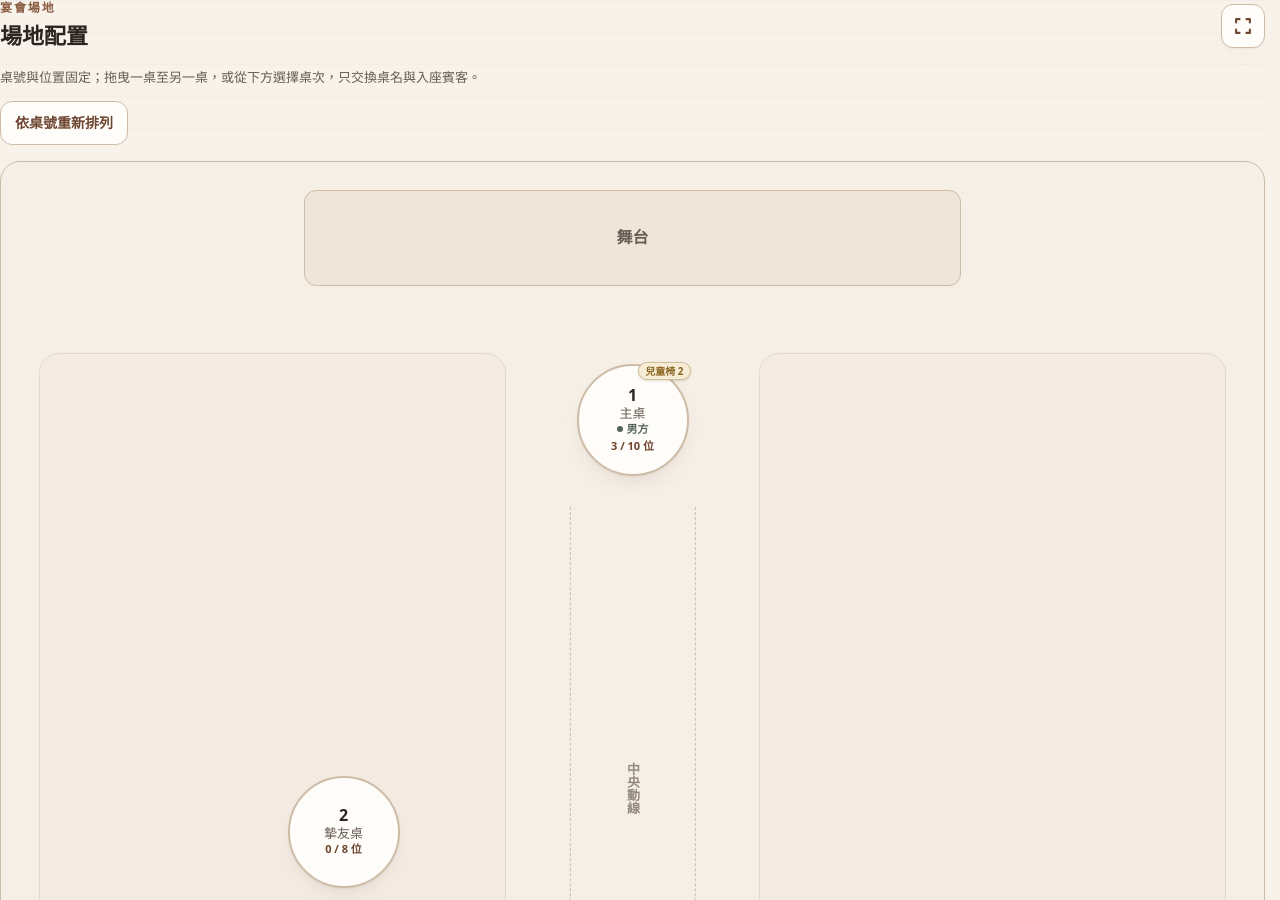
Test case: SeatingFloorPlan › restores every manually placed table to automatic only after an explicit confirm
What coordinates should you click on to do the following:
click the button "依桌號重新排列"
I would click on:
 (64, 123)
Its box is [0, 101, 128, 145].
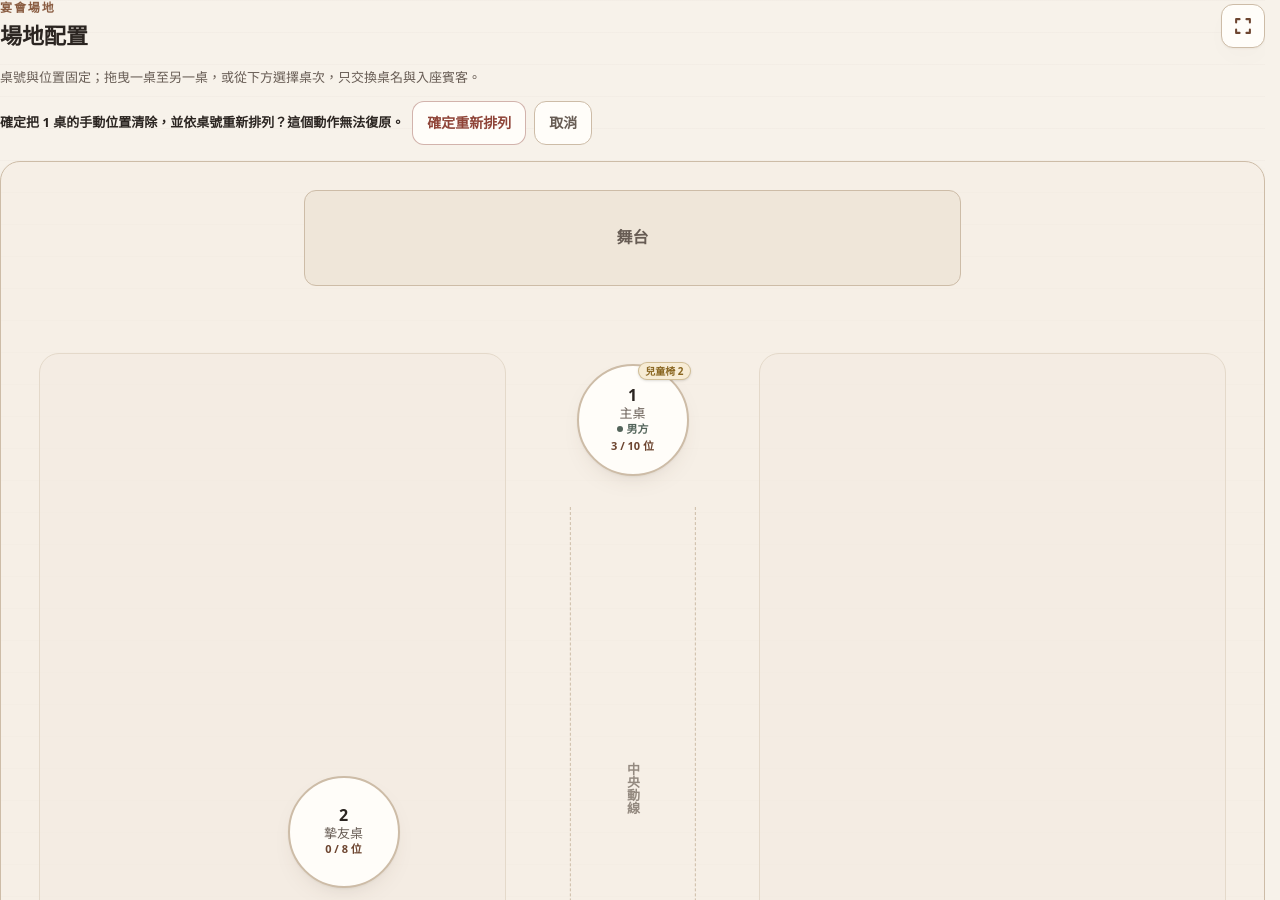
Now the text "確定把 1 桌的手動位置清除，並依桌號重新排列？這個動作無法復原。" is shown, box [0, 112, 404, 133]
What coordinates should you click on to do the following:
click the button "確定重新排列"
I would click on:
 (469, 123)
Its box is [412, 101, 526, 145].
(page scrolled)
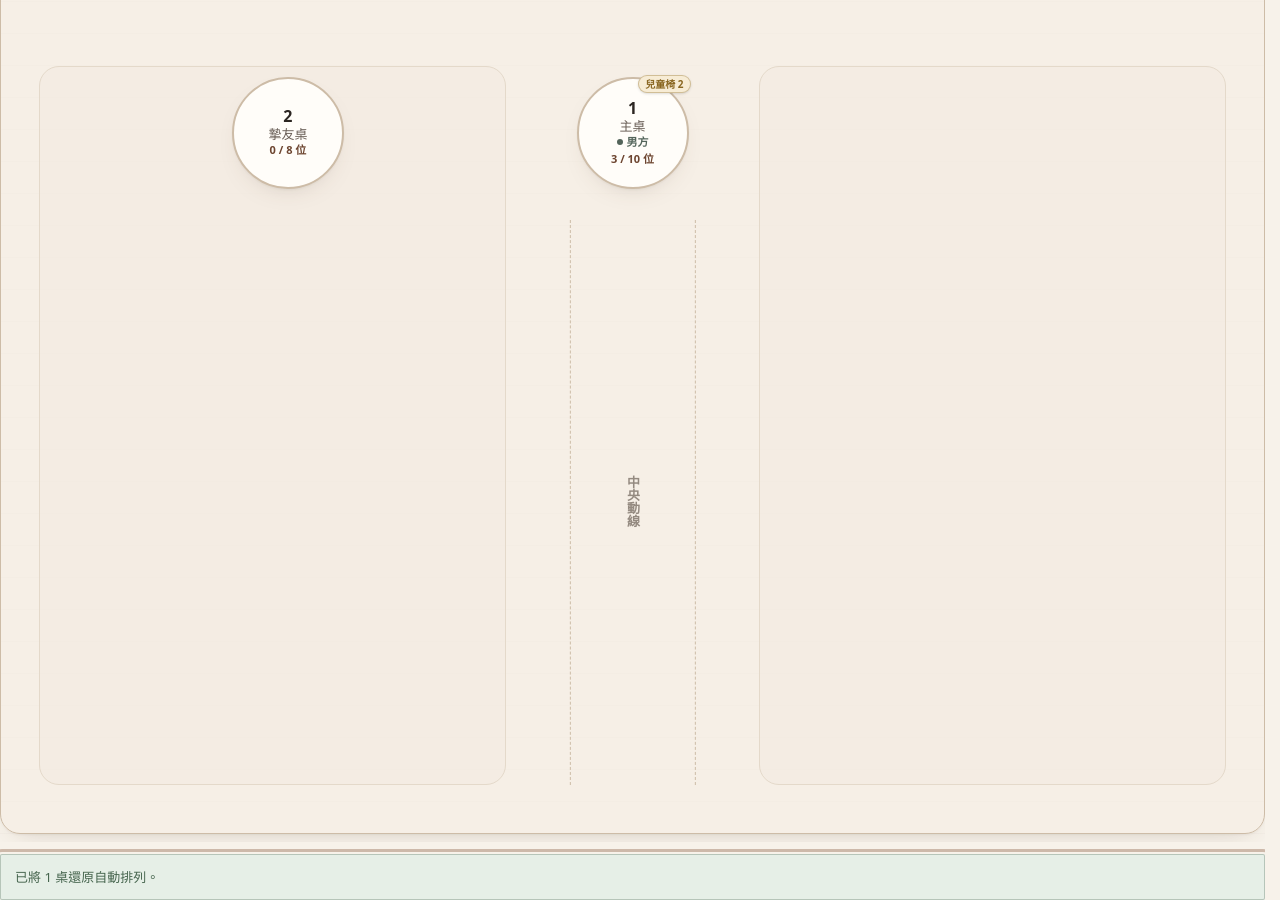
Now the message reads "已將 1 桌還原自動排列。", box [15, 868, 159, 886]
